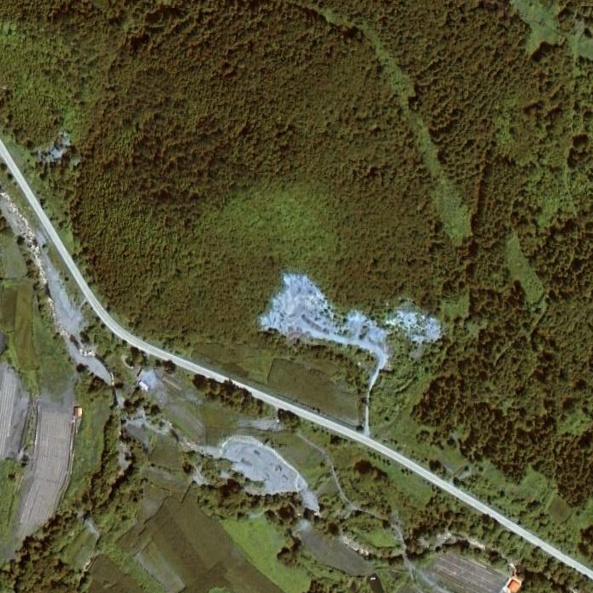slope: (258, 269, 448, 390)
